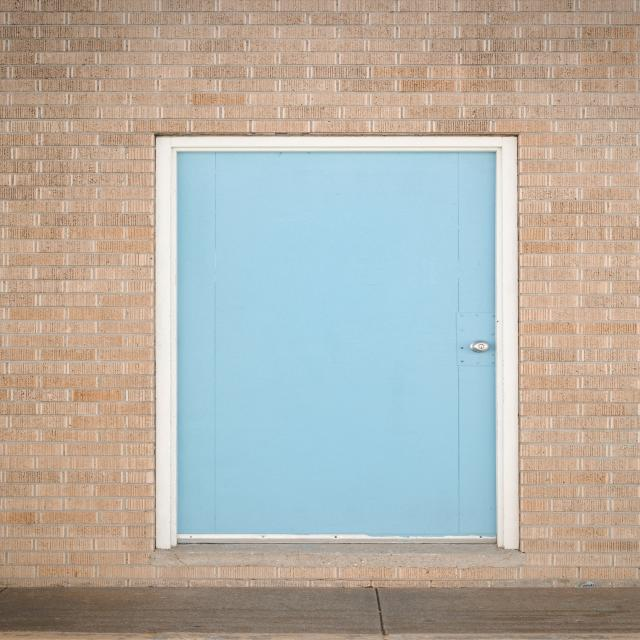door-knob: (471, 340, 489, 352)
